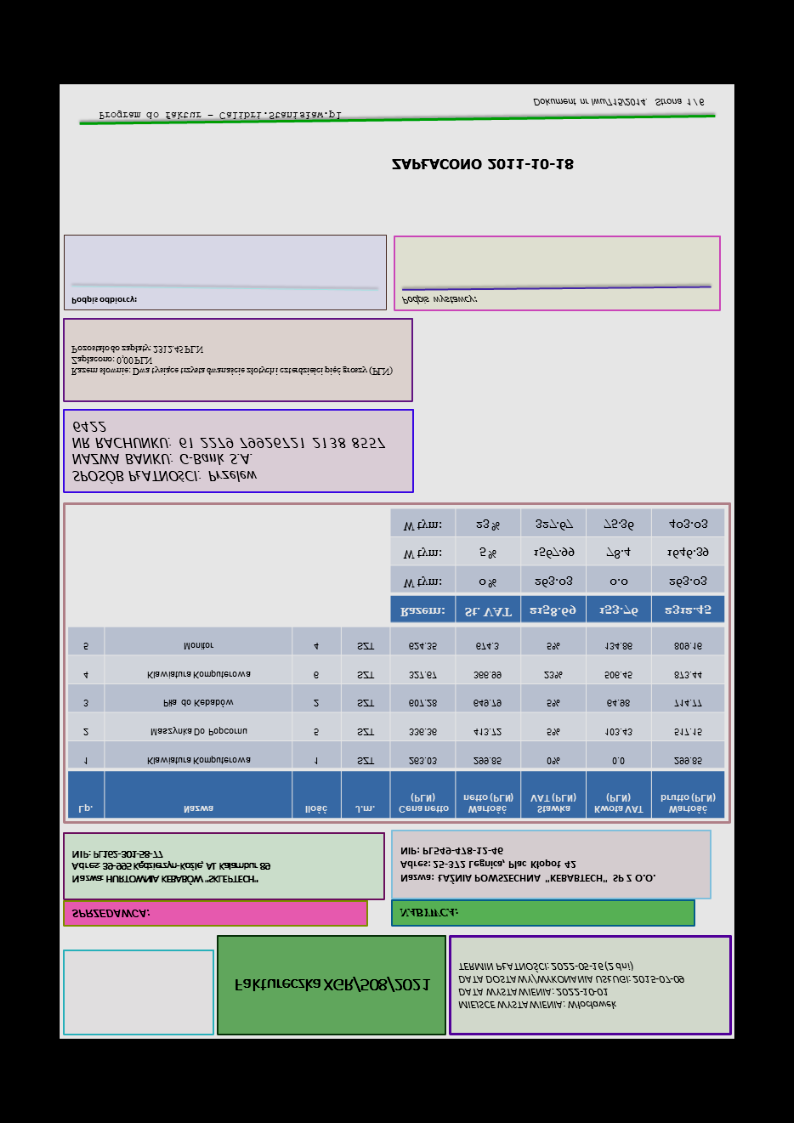Table: (65, 627, 724, 820), (388, 507, 723, 626)
TextBox: (69, 414, 390, 487), (66, 338, 398, 379), (453, 956, 688, 1013), (397, 841, 660, 888), (66, 846, 275, 887), (229, 972, 431, 997), (385, 153, 578, 177), (95, 107, 344, 124), (529, 94, 708, 112), (398, 288, 479, 310), (66, 904, 151, 922), (65, 291, 139, 309), (395, 905, 458, 922)
